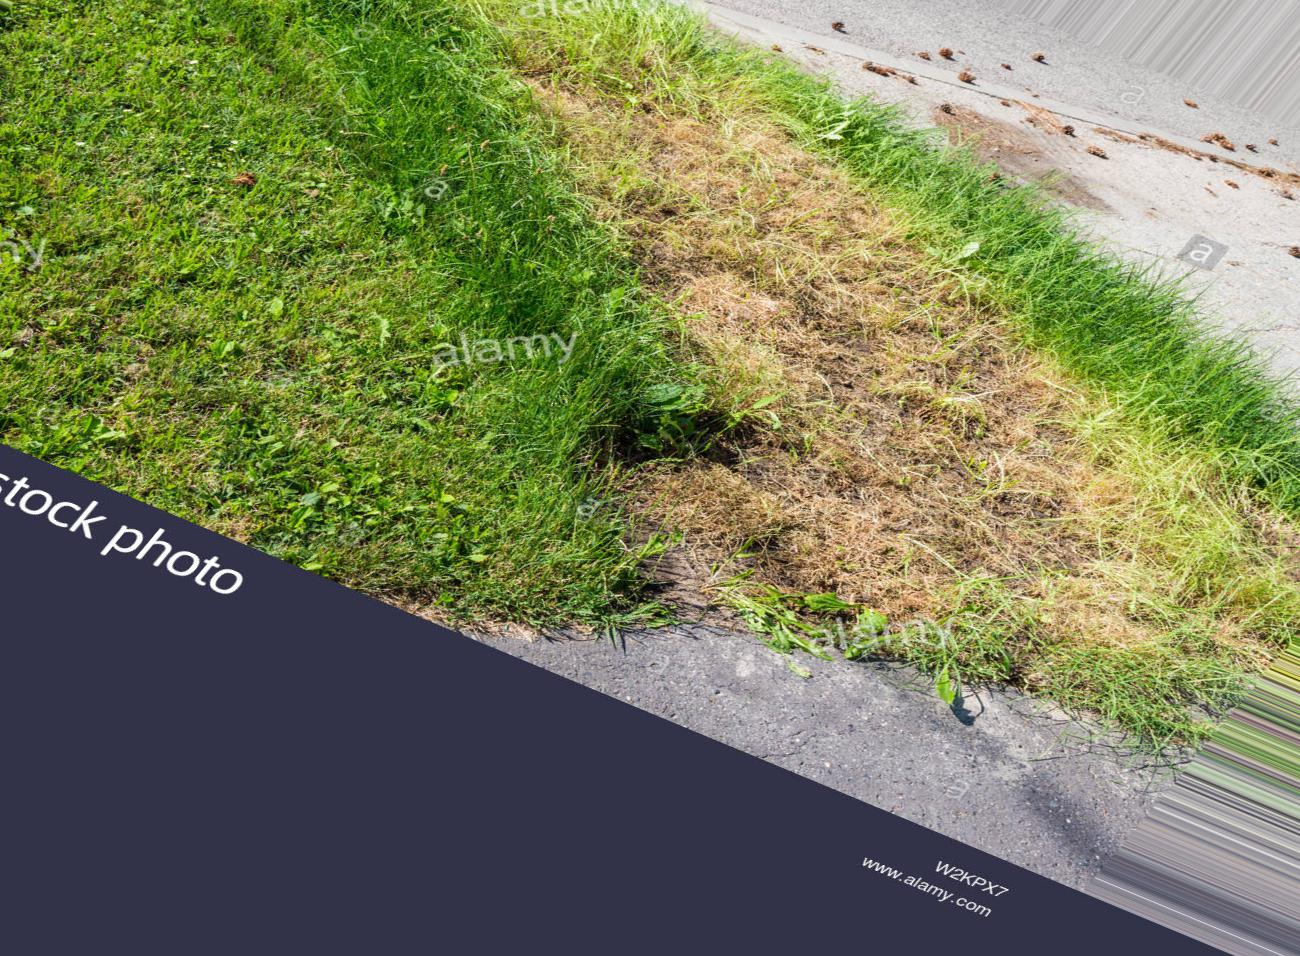patch: (669, 466, 1098, 599), (745, 216, 936, 474), (603, 127, 816, 342), (903, 345, 1054, 469)
